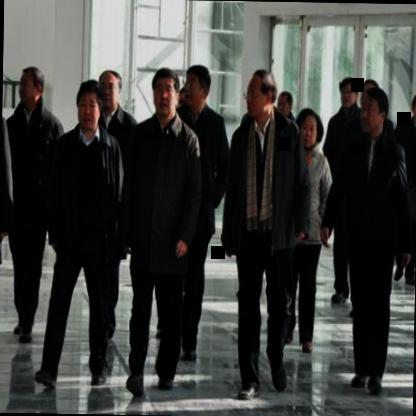head: (242, 64, 276, 126), (358, 77, 390, 139), (148, 64, 180, 124), (180, 61, 213, 113), (72, 77, 102, 133), (15, 60, 44, 112), (294, 104, 324, 154), (98, 63, 122, 114), (334, 74, 358, 114), (276, 88, 294, 123), (410, 87, 416, 126)
